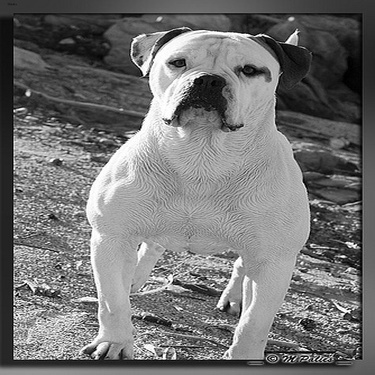dog: (82, 25, 314, 358)
